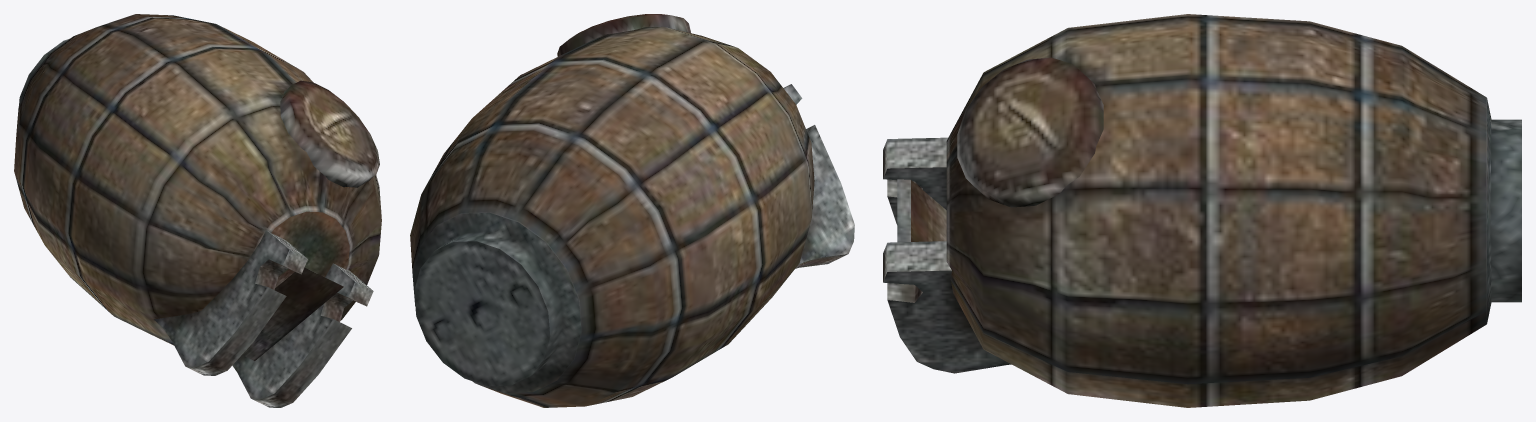
Rendered from projectile_britishgrenade.glb.
3 views of the same model, side by side, from view 1: azimuth 30°, elevation 25°; view 2: azimuth 150°, elevation 25°; view 3: azimuth 270°, elevation 25° (orthographic). The views are drawn at different scales.
Size of the model in its own units: 2.46 by 2.46 by 3.94.
1 material, 1 textured.
